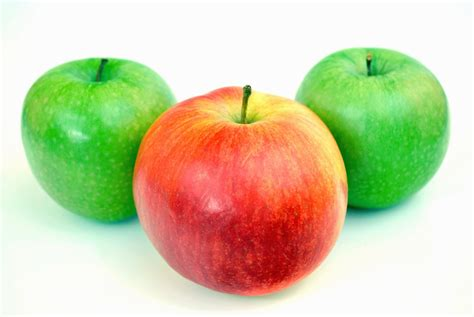apple: (128, 79, 352, 300), (18, 56, 181, 222), (293, 45, 450, 211)
